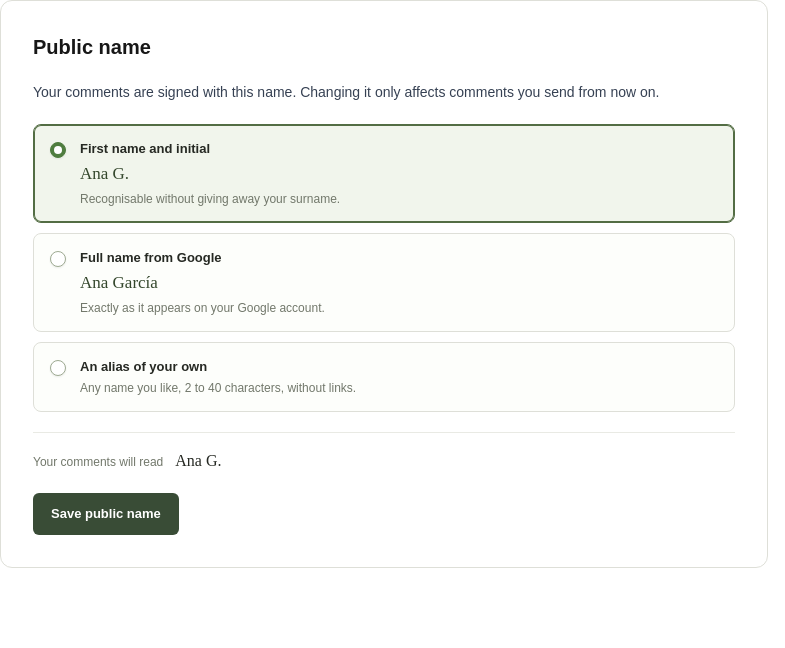
it: PublicNameSettings › explains a refusal ({"name":"PublicNameError"})
Click the button "Save public name": click(106, 514) x1=33 y1=493 x2=179 y2=535
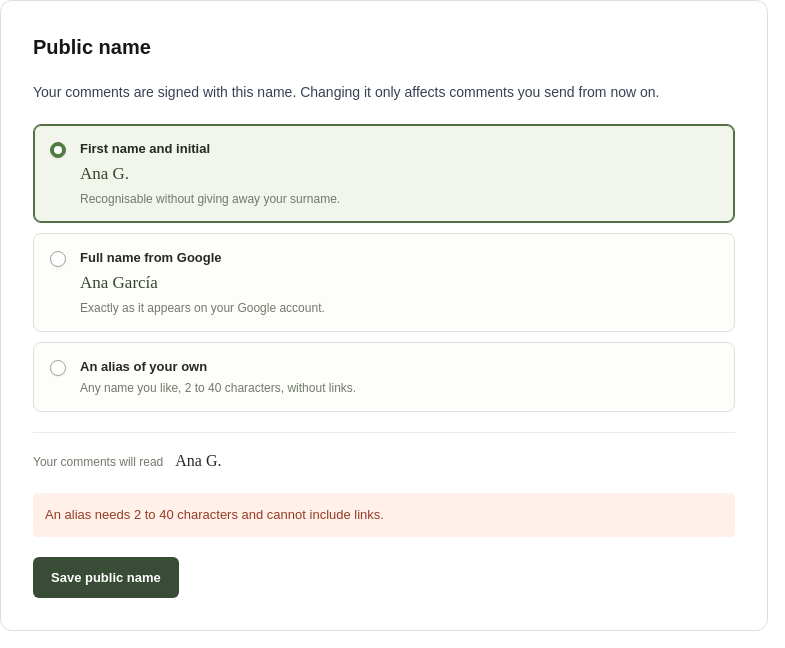
Expected: the message shows "cannot include links", x1=45 y1=507 x2=384 y2=522
